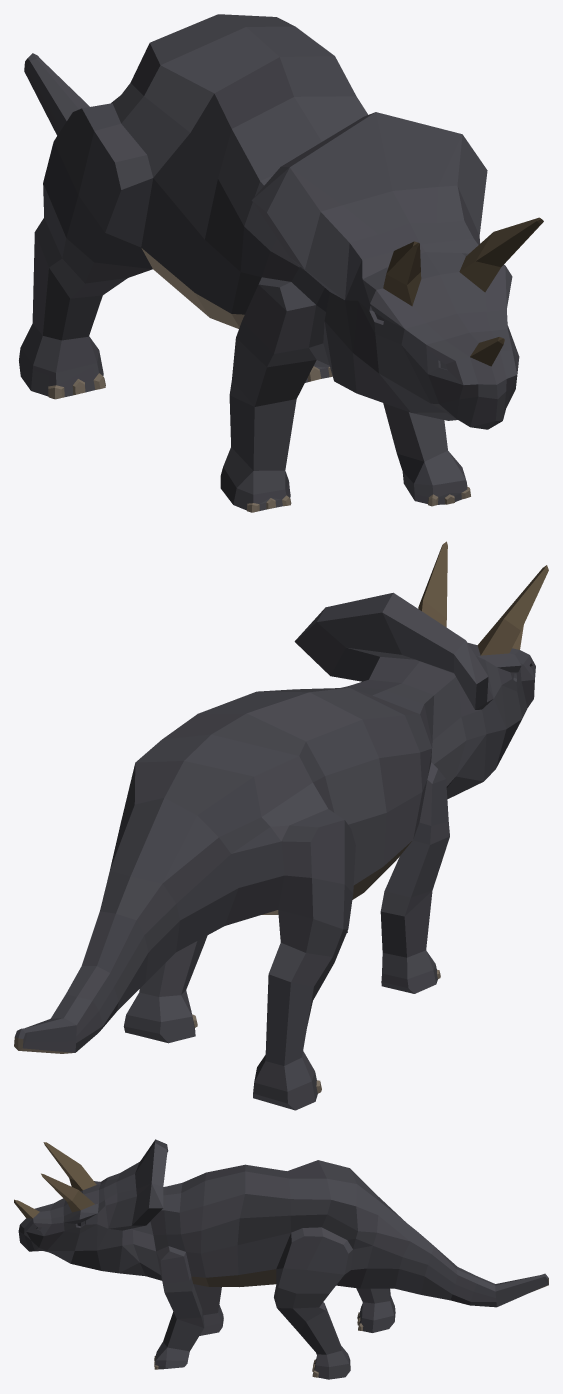
File: triceratops.glb
3 renders of one model, top to bottom at view 1: azimuth 30°, elevation 25°; view 2: azimuth 150°, elevation 25°; view 3: azimuth 270°, elevation 25°, orthographic. The views are drawn at different scales.
Parts seen in each view (by area): view 1: Triceratops_Cylinder; view 2: Triceratops_Cylinder; view 3: Triceratops_Cylinder.
Part boxes in pixels (x1,y1,x2,y2): Triceratops_Cylinder: (19,14,543,512); Triceratops_Cylinder: (14,541,548,1110); Triceratops_Cylinder: (14,1139,548,1379).
Size of the model in its own units: 5.85 by 8.87 by 20.98.
